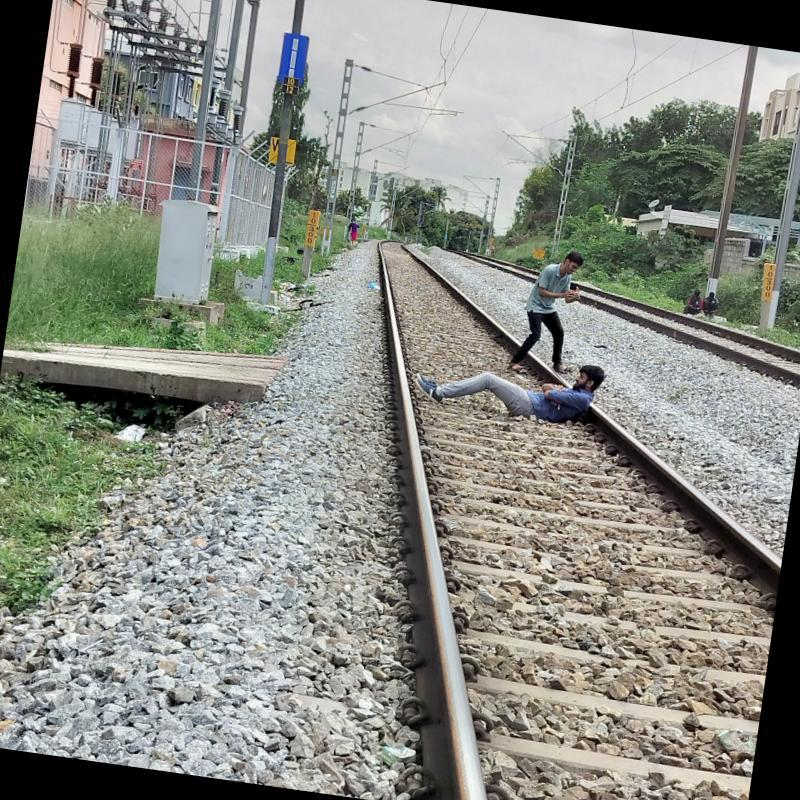sleeping: (395, 336, 608, 426)
